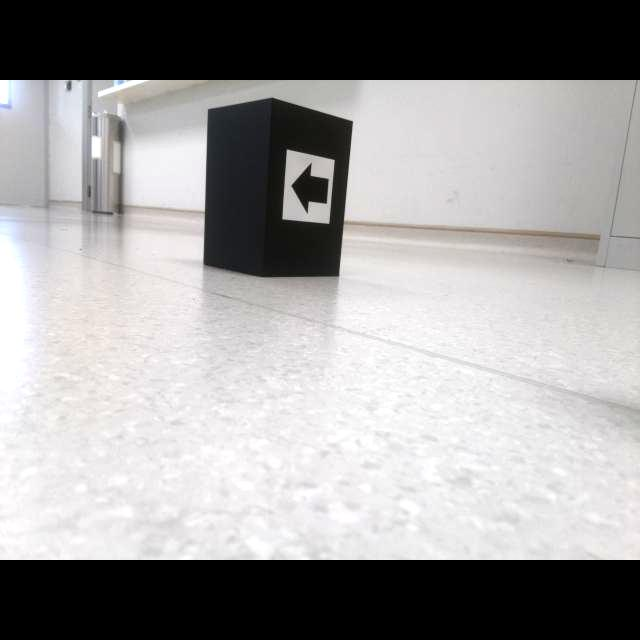LEFT: (290, 161, 329, 216)
